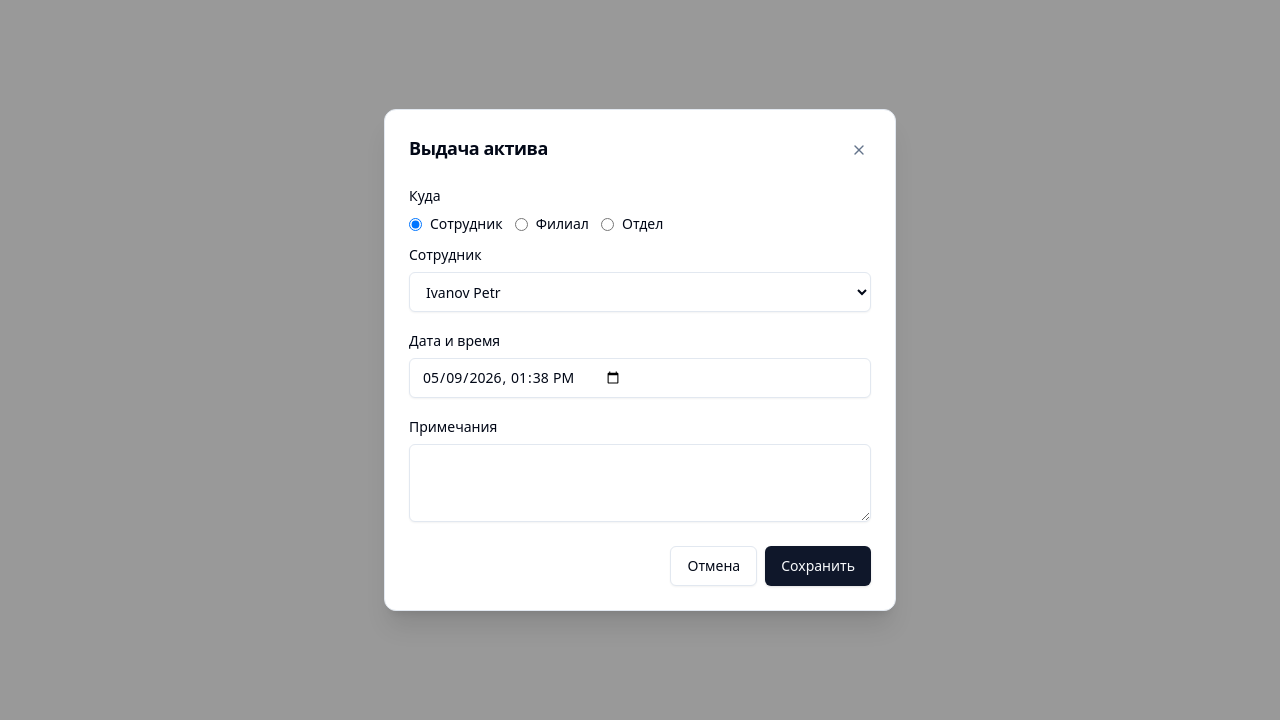
Test case: AssignDialog › issue mode (warehouse → ?) › switches the holder selector when the user picks a different kind
Note: Default is employee → switch to branch.
Click the radio button labelled "Филиал": (521, 224) [515,218,528,230]
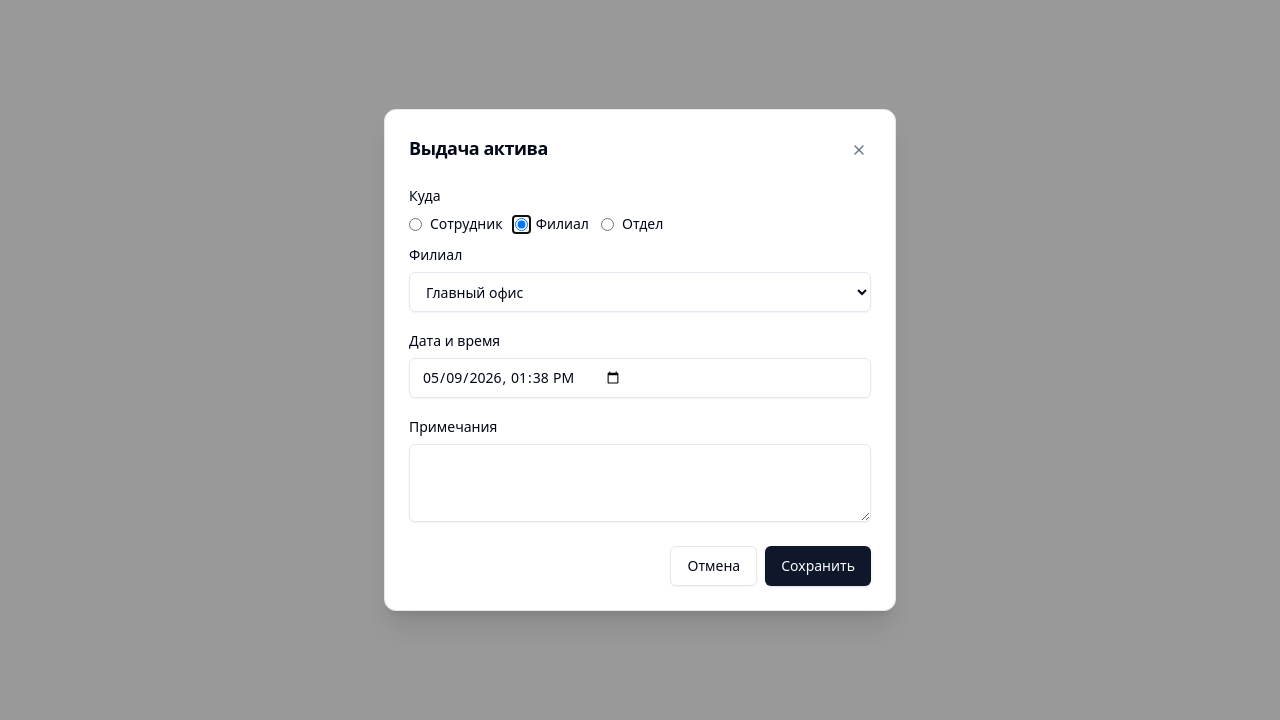
Now the label with id "assign-employee" is gone
Now the dropdown with id "assign-branch-target" is shown, box [409,272,871,312]
Note: And switch to department (stub).
Click the radio button labelled "Отдел": (608, 224) [601,218,614,230]
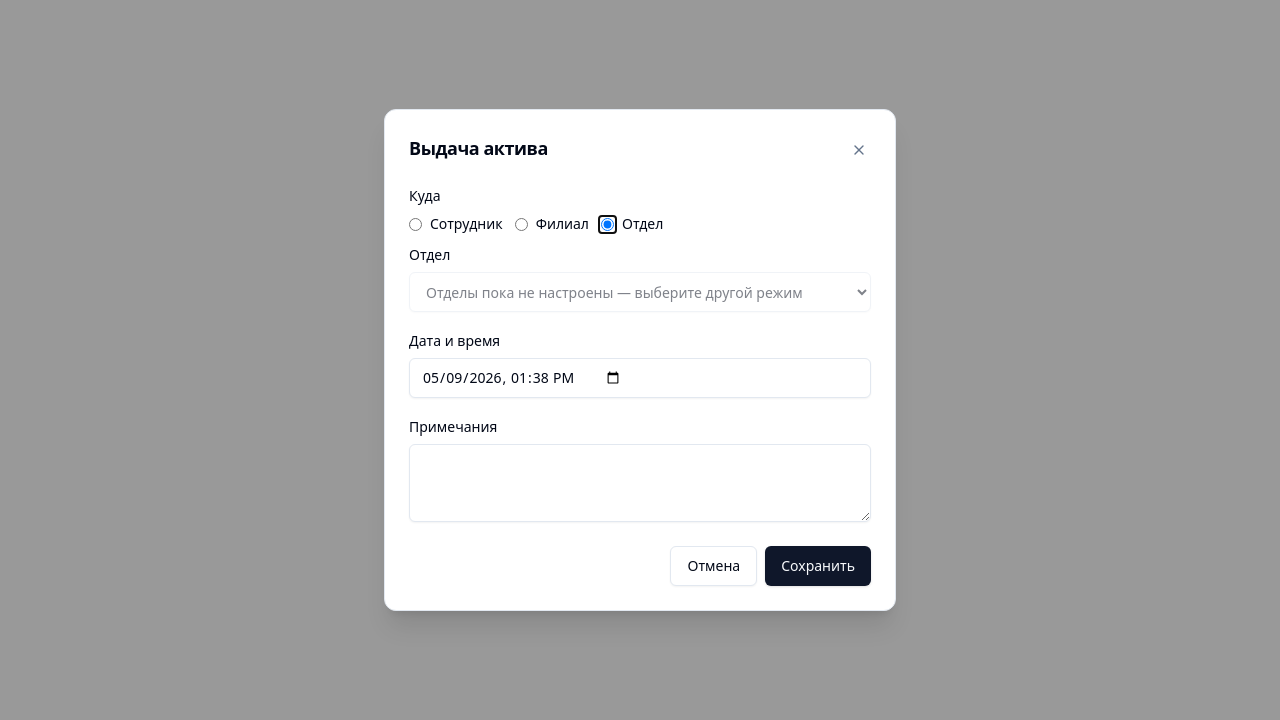
Now the label with id "assign-branch-target" is gone
Now the dropdown with id "assign-department" is shown, box [409,272,871,312]
